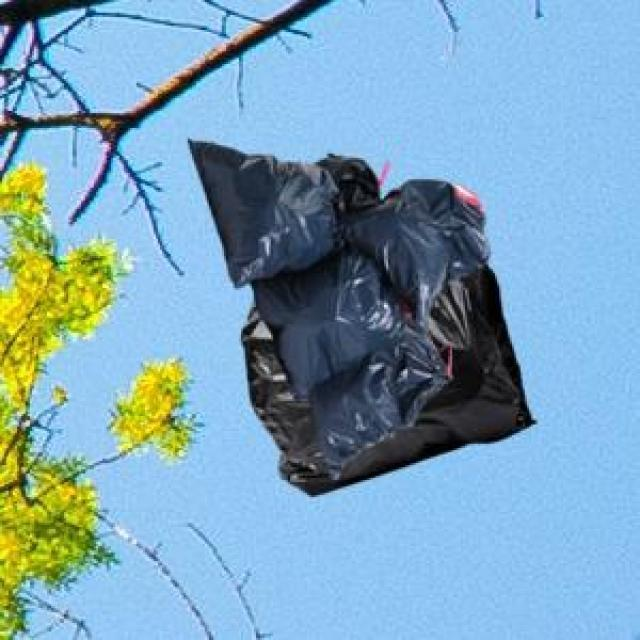Vinyl: (191, 140, 532, 493)
